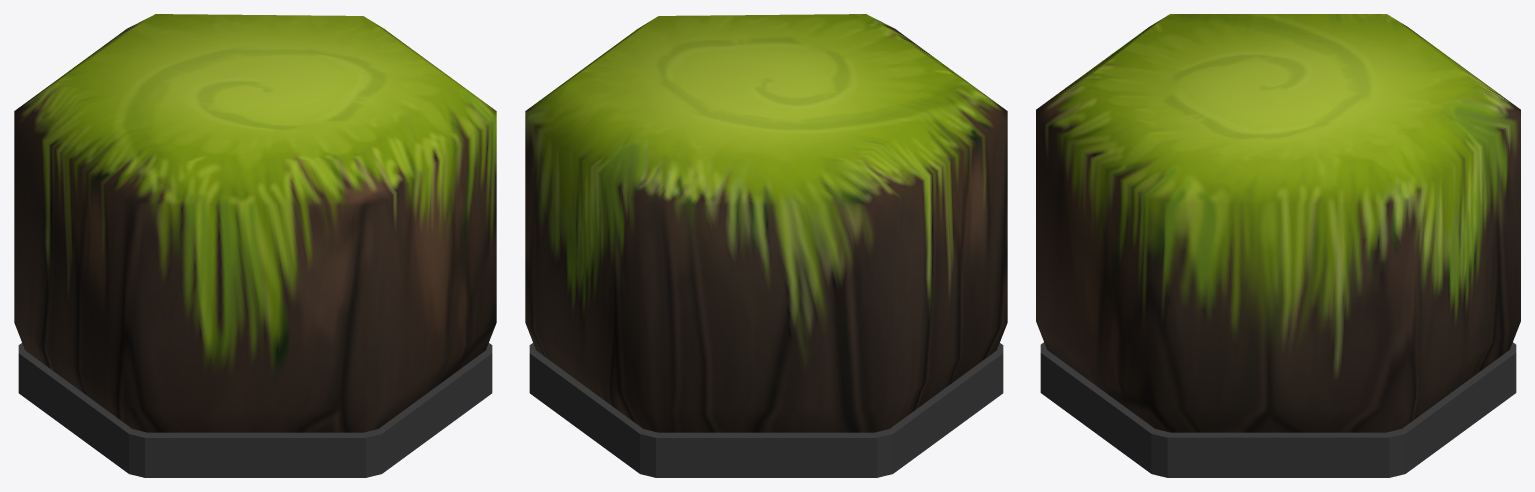
File: tile_art_h1.FBX
The picture shows the model from 3 angles, left to right: view 1: azimuth 30°, elevation 25°; view 2: azimuth 150°, elevation 25°; view 3: azimuth 270°, elevation 25°; orthographic projection.
Parts seen in each view (by area): view 1: 04, base; view 2: 04, base; view 3: 04, base.
Boxes of the visible parts, box(x1,y1,x2,y2) form: 04: box(14, 14, 496, 432); base: box(18, 343, 492, 477); 04: box(525, 14, 1007, 432); base: box(529, 343, 1003, 477); 04: box(1036, 14, 1520, 432); base: box(1040, 342, 1516, 477).
Bounding box in the file's own units: 86.9 × 67.82 × 98.11.
Materials: 1 (1 with a texture image).
